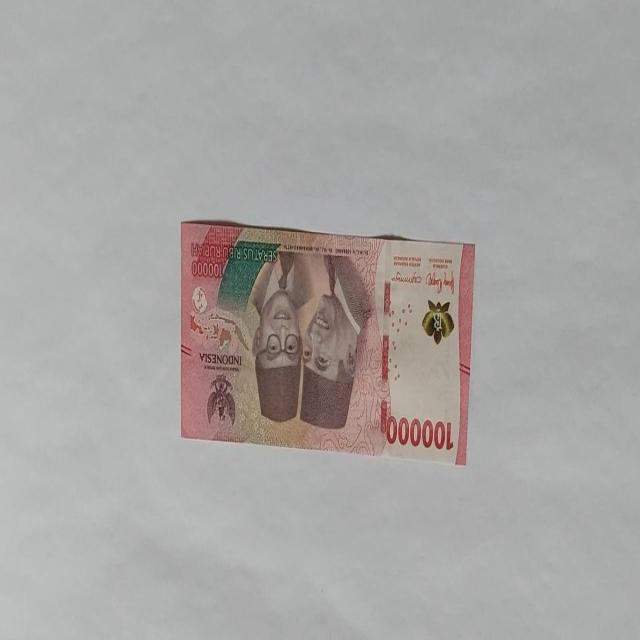Kertas: (179, 218, 475, 465), (384, 414, 454, 452)
